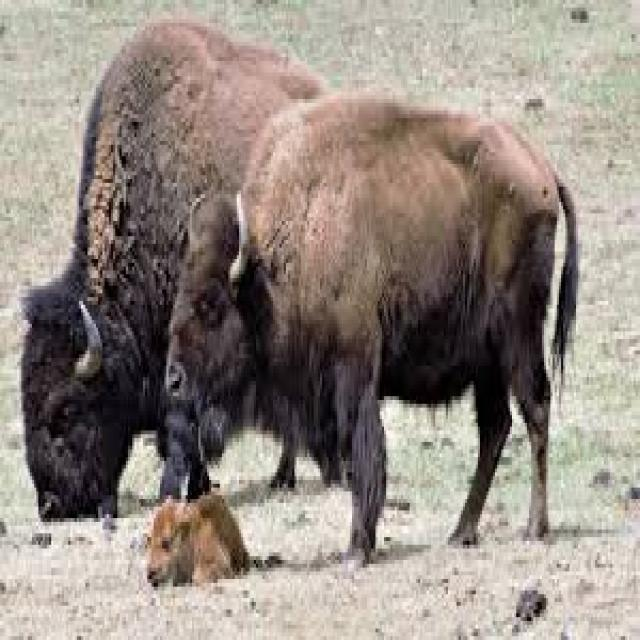Bison: (165, 84, 578, 577), (13, 12, 369, 539)
